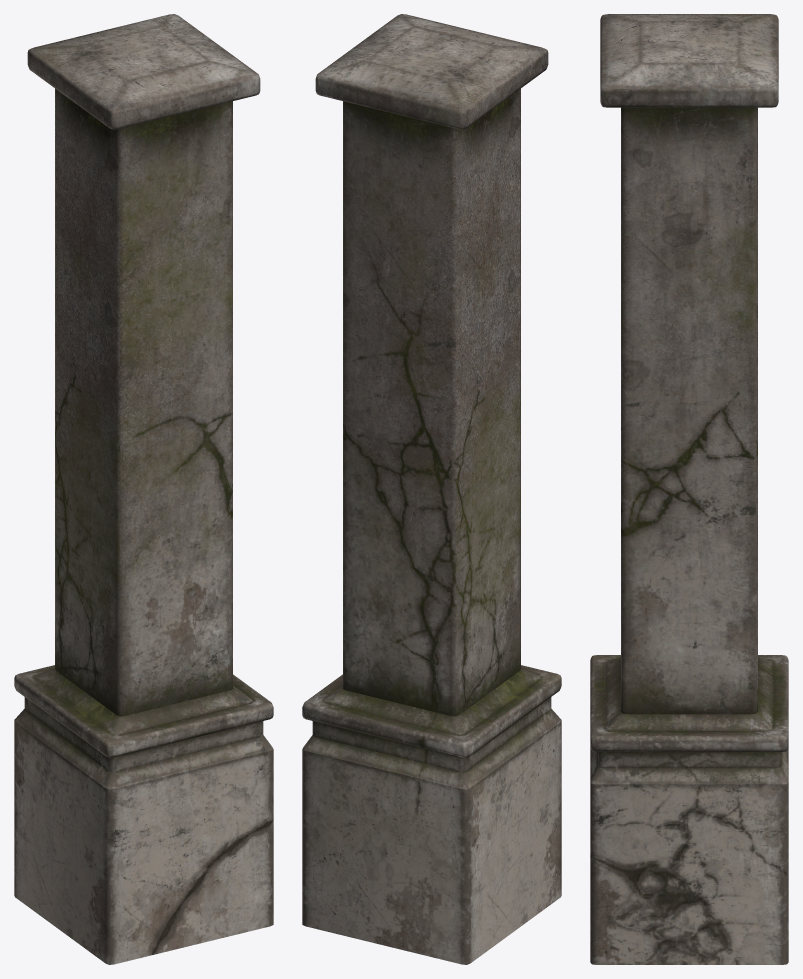
The model's file is SM_fence_05.fbx.
3 renders of one model, left to right at view 1: azimuth 30°, elevation 25°; view 2: azimuth 150°, elevation 25°; view 3: azimuth 270°, elevation 25°, orthographic. The views are drawn at different scales.
Parts seen in each view (by area): view 1: SM_fence_05; view 2: SM_fence_05; view 3: SM_fence_05.
Boxes of the visible parts, x1=… form: SM_fence_05: x1=14, y1=14, x2=273, y2=964; SM_fence_05: x1=302, y1=14, x2=561, y2=964; SM_fence_05: x1=590, y1=14, x2=788, y2=964.
Size of the model in its own units: 39.7 by 195 by 39.7.
